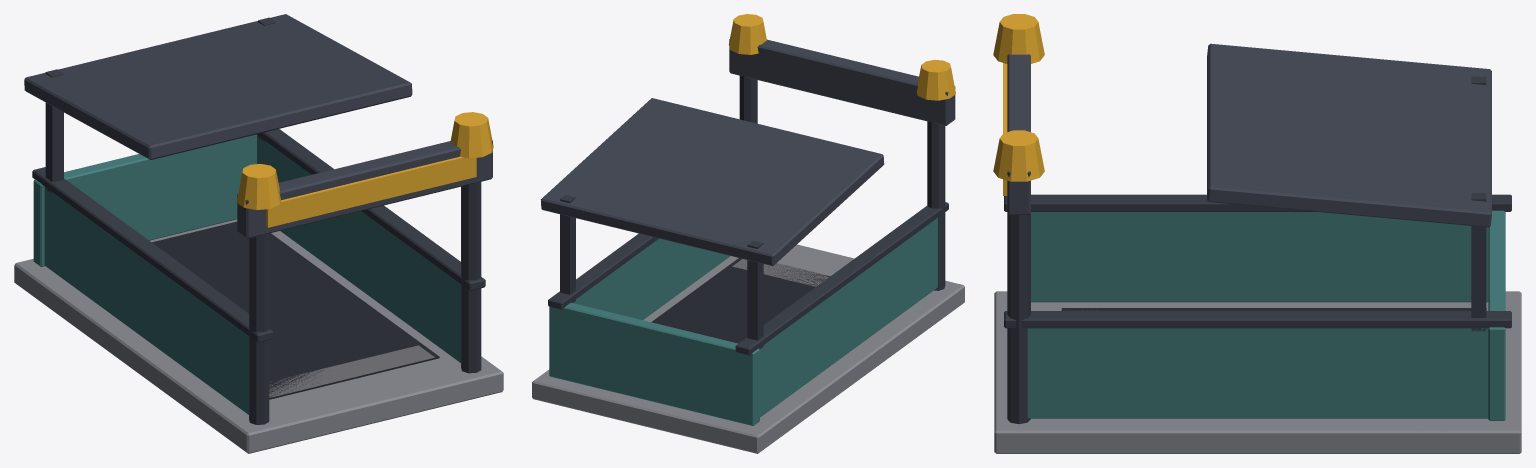
File: Stylized_Landmark_SubwayEntrance.fbx
3 renders of one model, left to right at view 1: azimuth 30°, elevation 25°; view 2: azimuth 150°, elevation 25°; view 3: azimuth 270°, elevation 25°, orthographic. The views are drawn at different scales.
Parts seen in each view (by area): view 1: Stylized_Landmark_SubwayEntrance; view 2: Stylized_Landmark_SubwayEntrance; view 3: Stylized_Landmark_SubwayEntrance.
Part boxes in pixels (x1,y1,x2,y2): Stylized_Landmark_SubwayEntrance: (14,14,503,453); Stylized_Landmark_SubwayEntrance: (532,14,964,453); Stylized_Landmark_SubwayEntrance: (993,14,1521,453).
Bounding box in the file's own units: 3.18 × 3.12 × 4.91.
